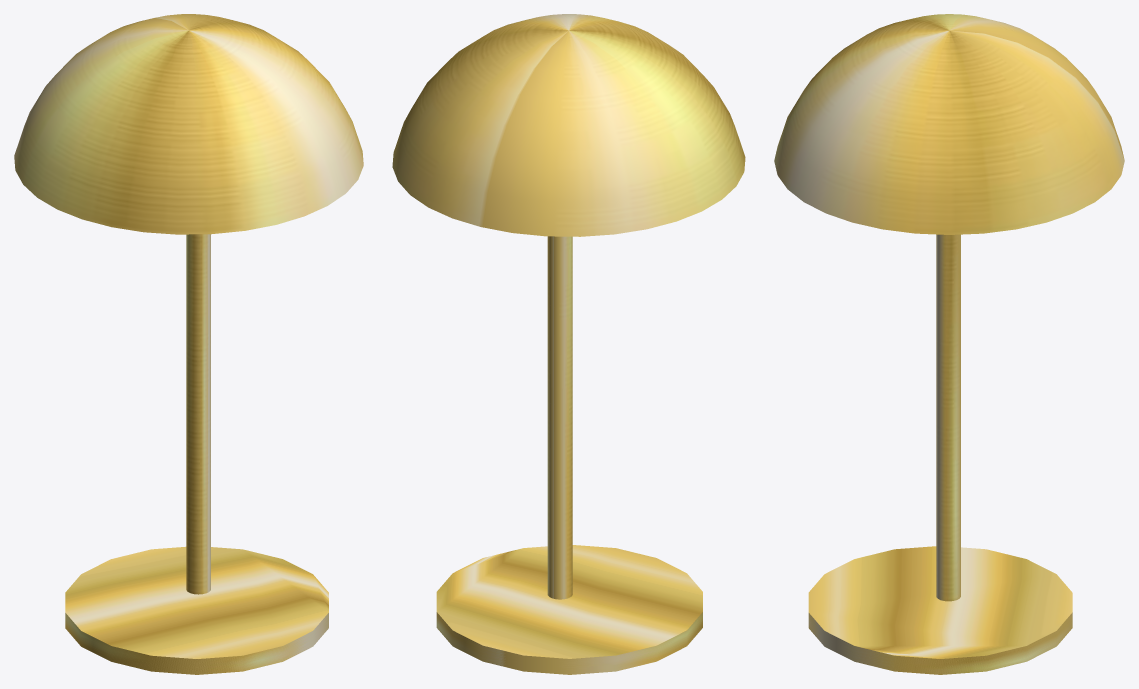
File: lampgamejam.fbx
3 renders of one model, left to right at view 1: azimuth 30°, elevation 25°; view 2: azimuth 150°, elevation 25°; view 3: azimuth 270°, elevation 25°, orthographic.
Parts seen in each view (by area): view 1: Sphere001; view 2: Sphere001; view 3: Sphere001.
Part boxes in pixels (box(x1,y1,x2,y2)): Sphere001: box(14, 14, 363, 674); Sphere001: box(392, 14, 745, 674); Sphere001: box(774, 14, 1124, 674).
Bounding box in the file's own units: 31.02 × 57.2 × 31.02.
1 material, 1 textured.
